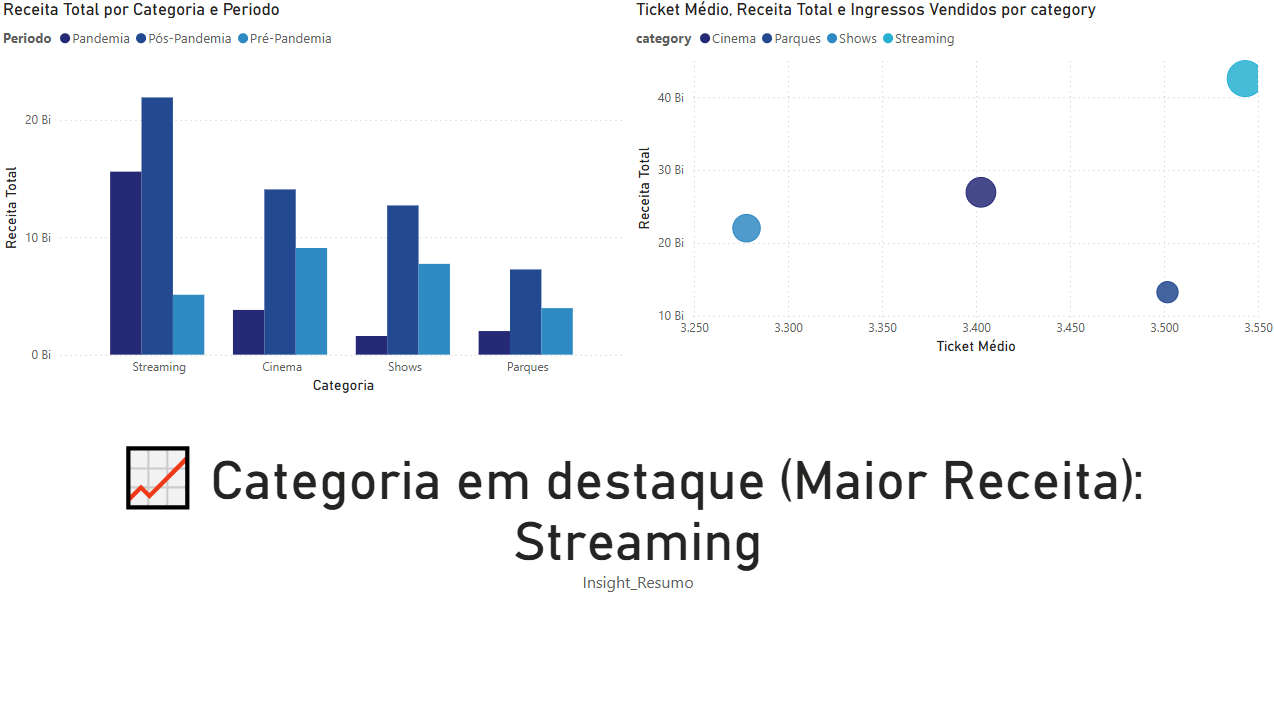

Layout of this report page (visuals, bound fields, positions):
{"tool":"powerbi","page":{"name":"Página 2","canvas":[1280,720],"ordinal":1},"visuals":[{"type":"clusteredColumnChart","title":"Receita Total por Categoria e Periodo","fields":{"Category":["entretenimento_consumo_brasil.category"],"Y":["entretenimento_consumo_brasil.Receita Total"],"Series":["entretenimento_consumo_brasil.period"]},"box":[0,0,633.2,398.8],"z":0},{"type":"scatterChart","fields":{"X":["entretenimento_consumo_brasil.Ticket Médio"],"Y":["entretenimento_consumo_brasil.Receita Total"],"Series":["entretenimento_consumo_brasil.category"],"Size":["entretenimento_consumo_brasil.Ingressos Vendidos"]},"box":[633,0,647,360],"z":1000},{"type":"card","fields":{"Values":["entretenimento_consumo_brasil.Insight_Resumo"]},"box":[0,421,1280,187],"z":2000}]}

Visuals, with their boxes in screenshot pixels (x1, y1, x2, y2), scaled from the page's 1280x720 canvas onto the 1274x711 screenshot:
"Receita Total por Categoria e Periodo" clusteredColumnChart: l=0, t=0, r=630, b=394
scatterChart - entretenimento_consumo_brasil.Ticket Médio x entretenimento_consumo_brasil.Receita Total: l=630, t=0, r=1273, b=356
card - entretenimento_consumo_brasil.Insight_Resumo: l=0, t=416, r=1273, b=600
